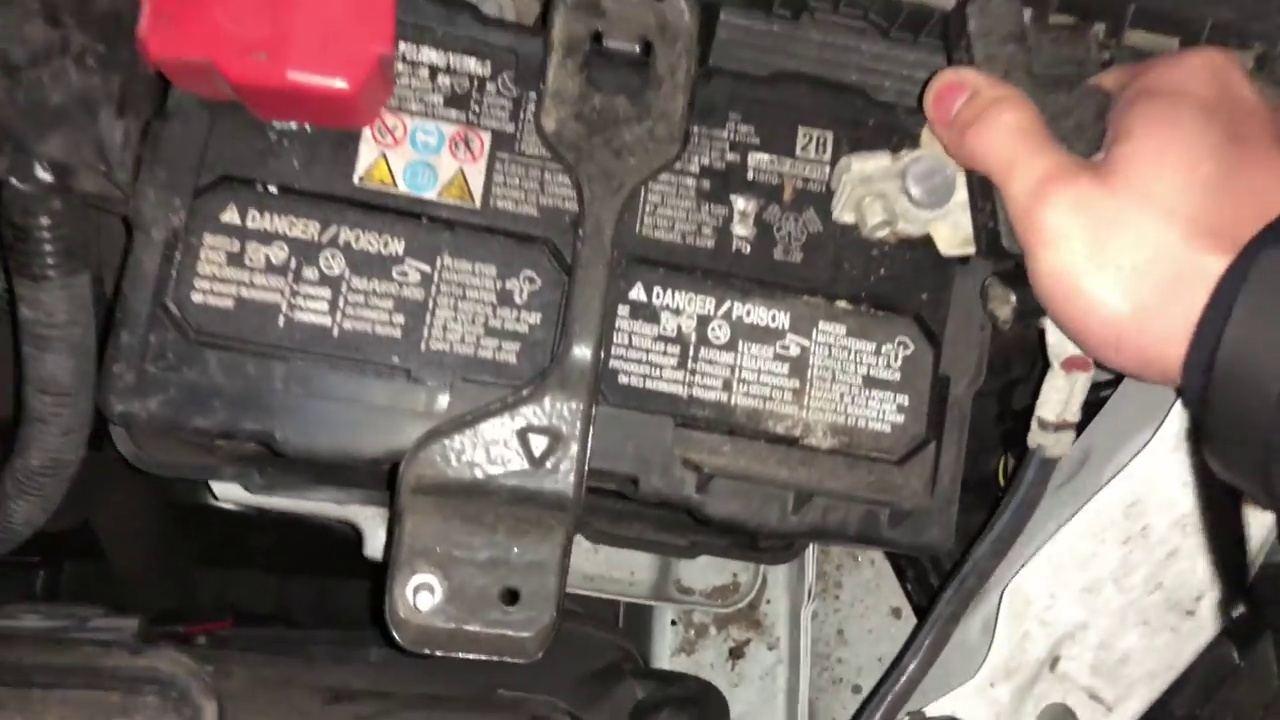battery: (88, 1, 1021, 546)
neg_touched: (829, 38, 1229, 304)
pos_connected: (127, 1, 402, 130), (817, 114, 967, 273)
